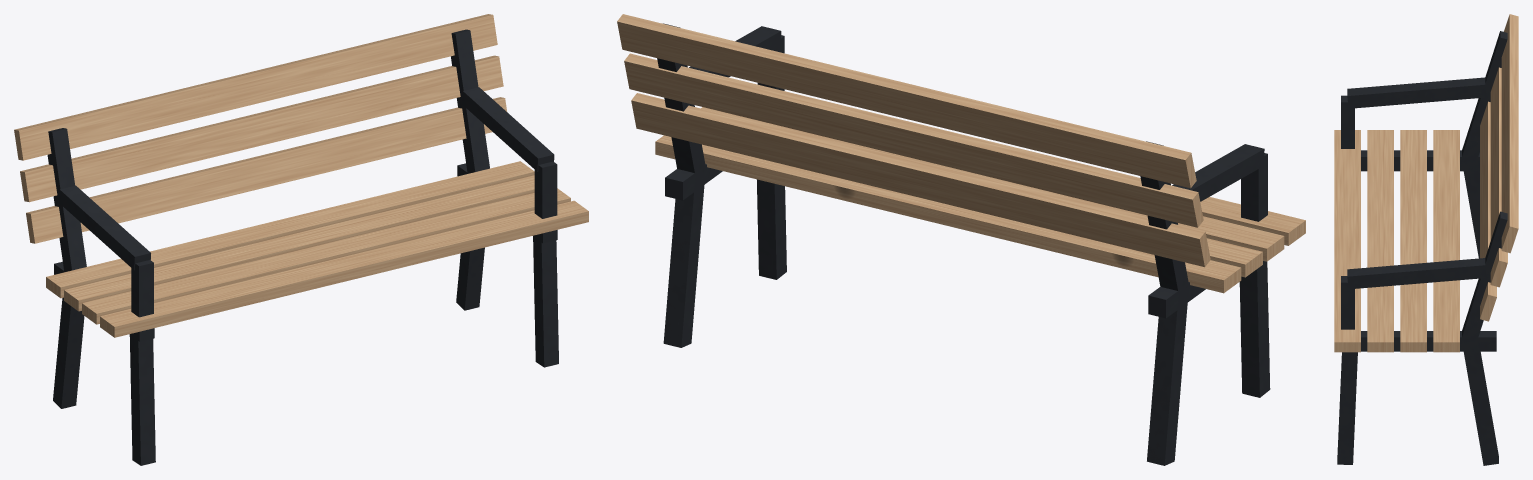
Rendered from bench_park.gltf.
3 renders of one model, left to right at view 1: azimuth 30°, elevation 25°; view 2: azimuth 150°, elevation 25°; view 3: azimuth 270°, elevation 25°, orthographic. The views are drawn at different scales.
Parts seen in each view (by area): view 1: bench_park; view 2: bench_park; view 3: bench_park.
Part boxes in pixels (<box>): bench_park: <box>14,14,588,465</box>; bench_park: <box>617,14,1305,465</box>; bench_park: <box>1334,14,1518,465</box>.
Bounding box in the file's own units: 1.84 × 1.02 × 0.6752.
2 materials, 2 textured.
